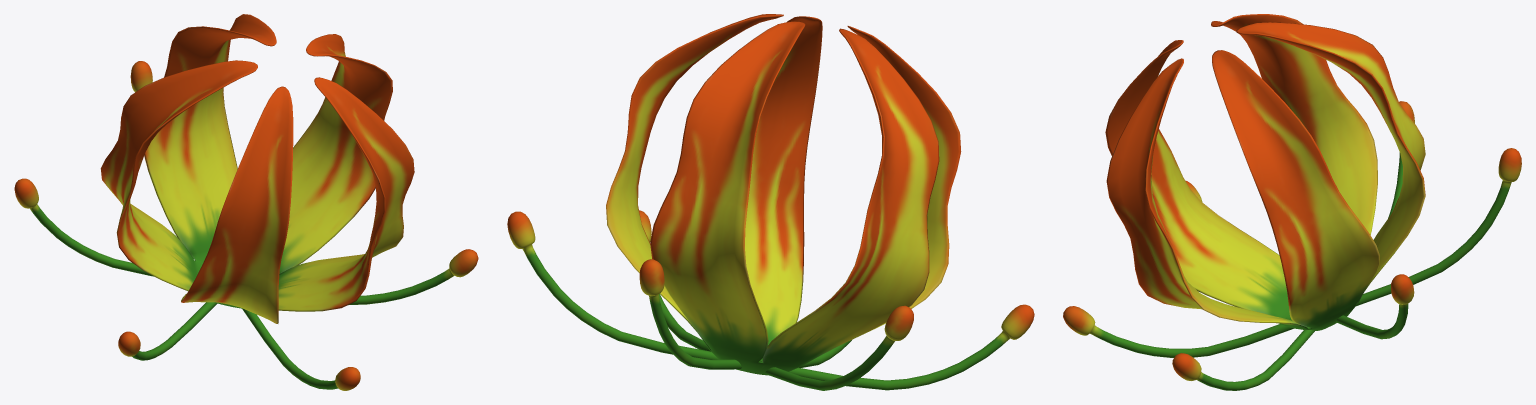
File: FlorDeFogo.fbx
3 views of the same model, side by side, from view 1: azimuth 30°, elevation 25°; view 2: azimuth 150°, elevation 25°; view 3: azimuth 270°, elevation 25° (orthographic). The views are drawn at different scales.
Parts seen in each view (by area): view 1: Flor de Fogo; view 2: Flor de Fogo; view 3: Flor de Fogo.
Part boxes in pixels (<box>): Flor de Fogo: <box>14,14,478,390</box>; Flor de Fogo: <box>507,14,1034,390</box>; Flor de Fogo: <box>1063,14,1521,390</box>.
Size of the model in its own units: 200 by 170 by 214.
